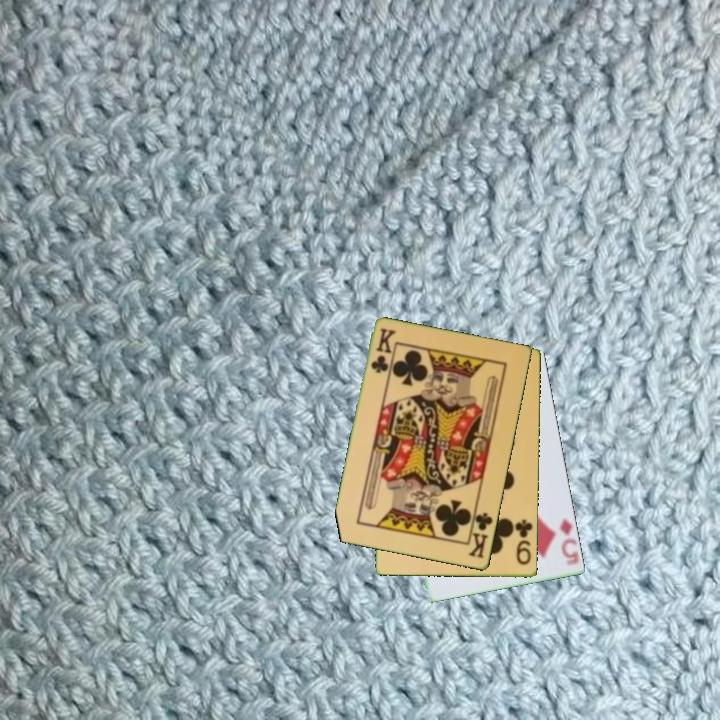5d: (556, 515, 582, 569)
9c: (512, 517, 536, 568)
Kc: (465, 505, 496, 562), (368, 325, 397, 377)
